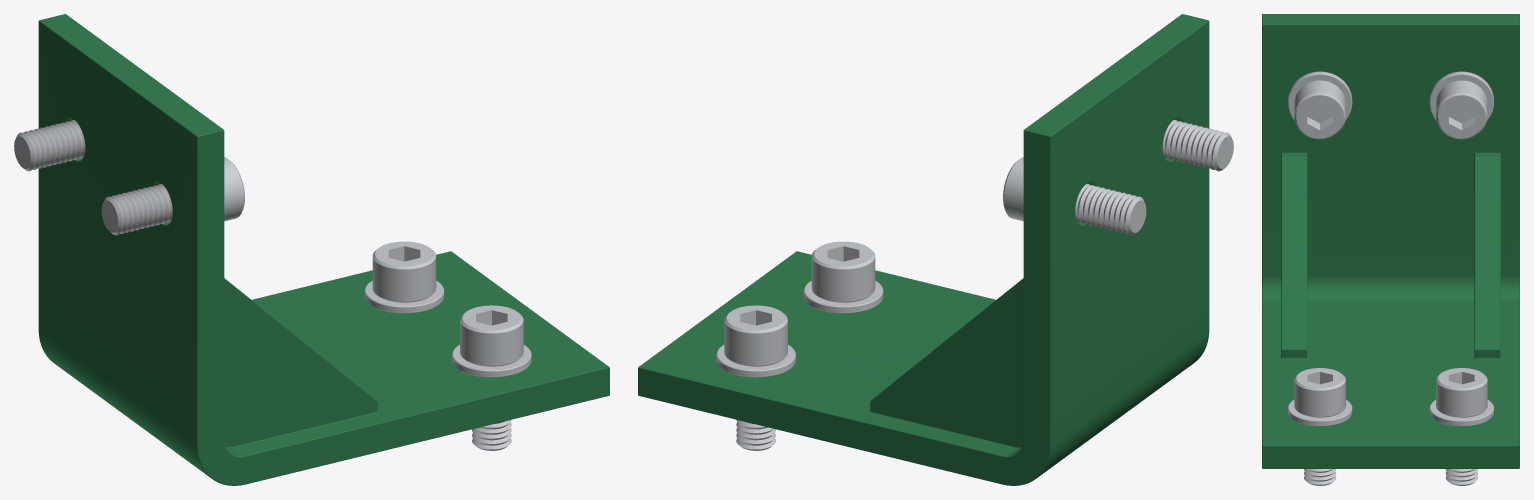
File: bracket.glb
The picture shows the model from 3 angles, left to right: view 1: azimuth 30°, elevation 25°; view 2: azimuth 150°, elevation 25°; view 3: azimuth 270°, elevation 25°; orthographic projection. The views are drawn at different scales.
Parts seen in each view (by area): view 1: Bracket, Bolt_01, Bolt_03, Bolt_02, Bolt_04, Washer_02, Washer_01; view 2: Bracket, Bolt_02, Bolt_04, Bolt_01, Bolt_03, Washer_01, Washer_02; view 3: Bracket, Bolt_01, Bolt_02, Bolt_03, Bolt_04, Washer_03, Washer_04, Washer_01, Washer_02.
Boxes of the visible parts, x1,y1,x2,y2 form: Bracket: [38, 14, 609, 485]; Bolt_01: [460, 305, 523, 450]; Bolt_03: [101, 157, 244, 235]; Bolt_02: [372, 241, 436, 302]; Bolt_04: [14, 120, 85, 171]; Washer_02: [364, 280, 444, 313]; Washer_01: [452, 344, 531, 377]; Bracket: [638, 14, 1209, 485]; Bolt_02: [724, 305, 787, 450]; Bolt_04: [1003, 157, 1146, 235]; Bolt_01: [811, 241, 875, 302]; Bolt_03: [1162, 120, 1233, 171]; Washer_01: [803, 280, 883, 313]; Washer_02: [716, 344, 795, 377]; Bracket: [1262, 14, 1519, 468]; Bolt_01: [1294, 368, 1345, 485]; Bolt_02: [1436, 368, 1487, 485]; Bolt_03: [1294, 80, 1345, 139]; Bolt_04: [1436, 80, 1487, 139]; Washer_03: [1288, 71, 1352, 120]; Washer_04: [1429, 71, 1493, 120]; Washer_01: [1288, 400, 1352, 426]; Washer_02: [1429, 400, 1493, 426].
Bounding box in the file's own units: 0.135 × 0.115 × 0.08.
